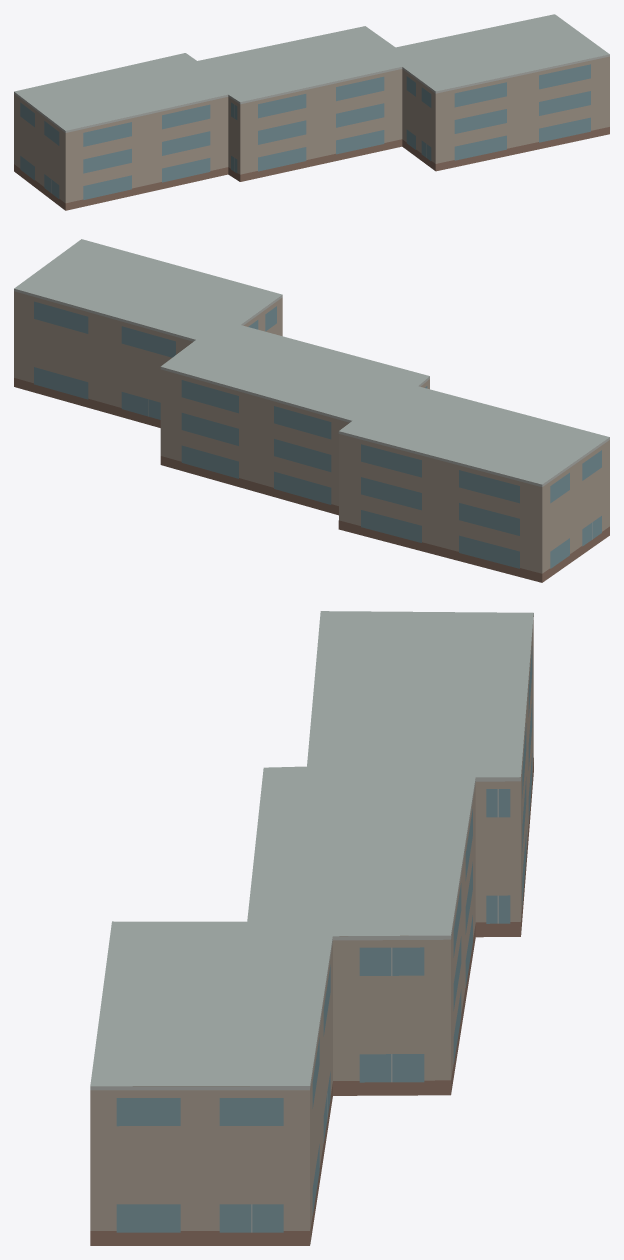
File: survey-upis-32886316.glb
3 views of the same model, one above another, from view 1: azimuth 30°, elevation 25°; view 2: azimuth 150°, elevation 25°; view 3: azimuth 270°, elevation 25° (orthographic). The views are drawn at different scales.
Parts seen in each view (by area): view 1: survey-upis-32886316.tmp; view 2: survey-upis-32886316.tmp; view 3: survey-upis-32886316.tmp.
Boxes of the visible parts, left/top/right/bottom form: survey-upis-32886316.tmp: left=14, top=14, right=609, bottom=210; survey-upis-32886316.tmp: left=14, top=239, right=609, bottom=582; survey-upis-32886316.tmp: left=90, top=611, right=533, bottom=1245.
Bounding box in the file's own units: 58.38 × 9.15 × 23.04.
